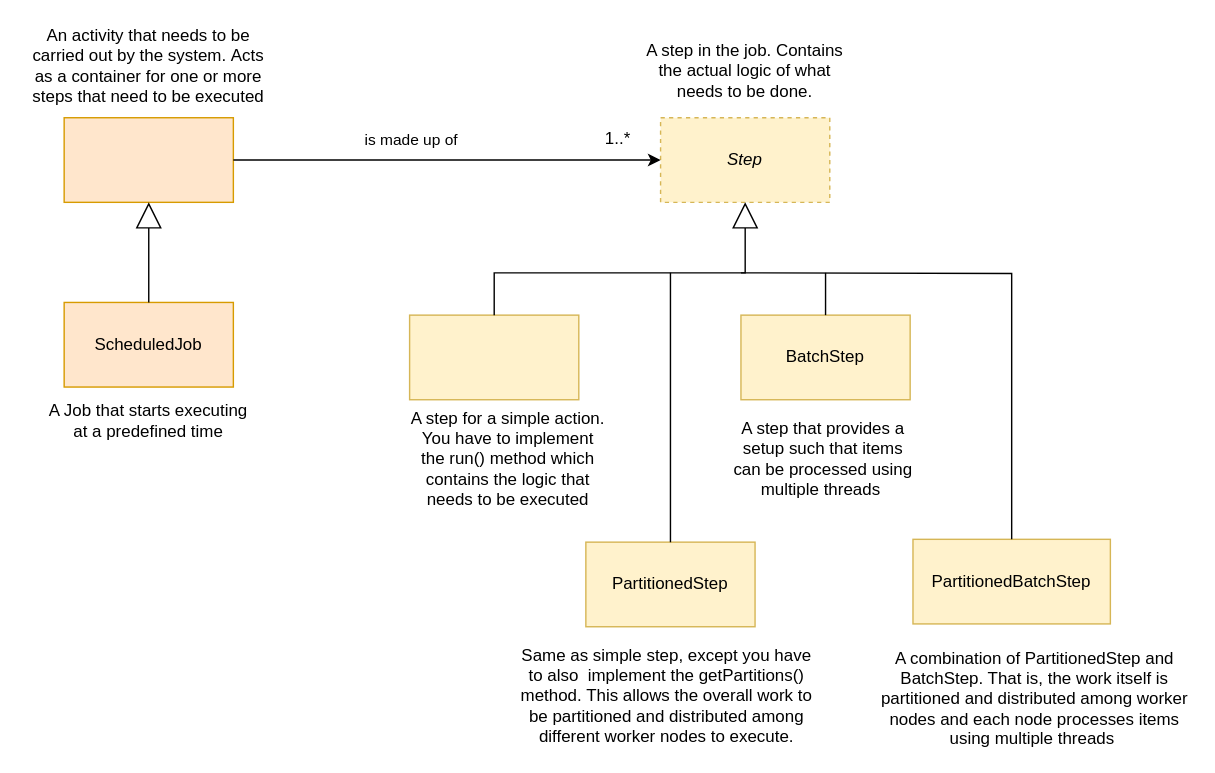
Some shapes in this 1215 by 773 pixel diagram are drawn without their labels. The centre of each missing label's shape, as x and y in pixels:
"Job" goes at (148,159).
"SimpleStep" goes at (493,357).
